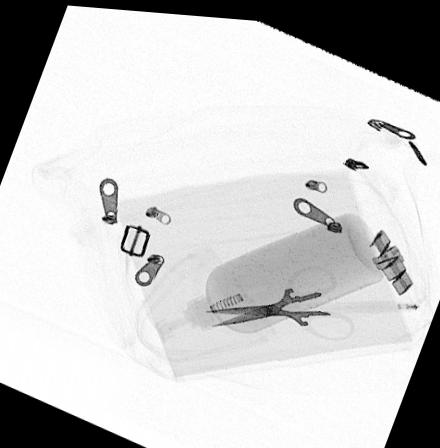Scissors: (203, 258, 355, 335)
